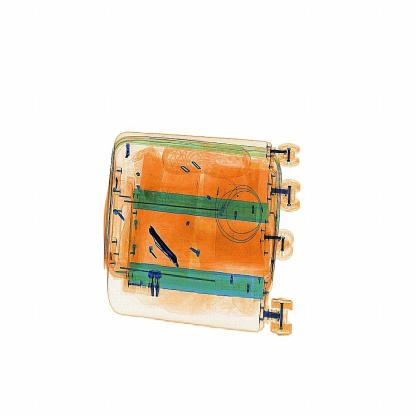knife: (144, 219, 187, 279)
